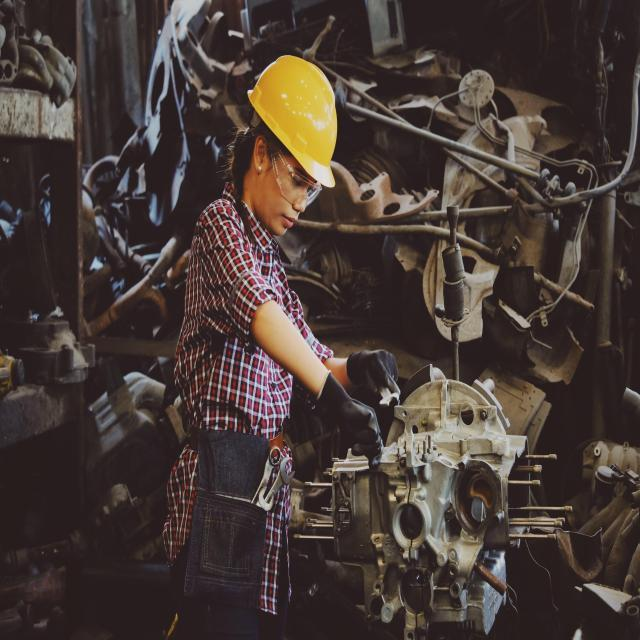safety_helmet: (248, 51, 338, 186)
